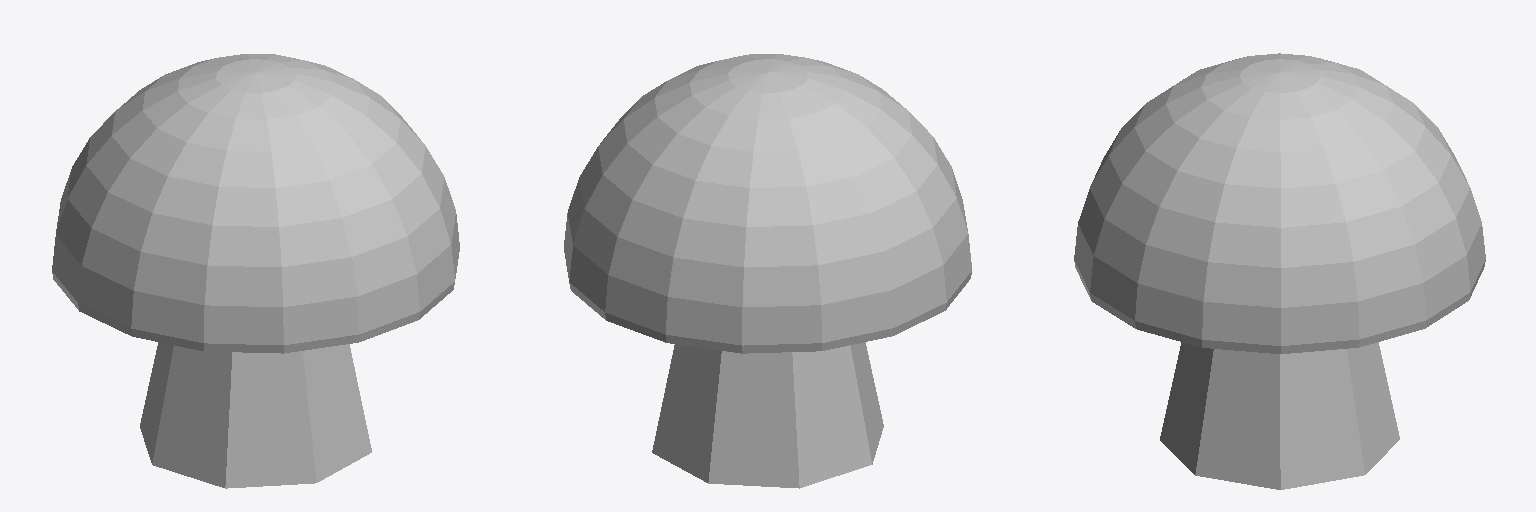
File: mushroom7.obj
3 renders of one model, left to right at view 1: azimuth 30°, elevation 25°; view 2: azimuth 150°, elevation 25°; view 3: azimuth 270°, elevation 25°, orthographic.
Visible parts, largest first — view 1: Mushroom3_1.001_Cylinder.052; view 2: Mushroom3_1.001_Cylinder.052; view 3: Mushroom3_1.001_Cylinder.052.
Part boxes in pixels (left/top/right/bottom): Mushroom3_1.001_Cylinder.052: left=52, top=54, right=459, bottom=488; Mushroom3_1.001_Cylinder.052: left=564, top=54, right=971, bottom=488; Mushroom3_1.001_Cylinder.052: left=1074, top=53, right=1485, bottom=489.
Size of the model in its own units: 0.6587 by 0.6474 by 0.6587.